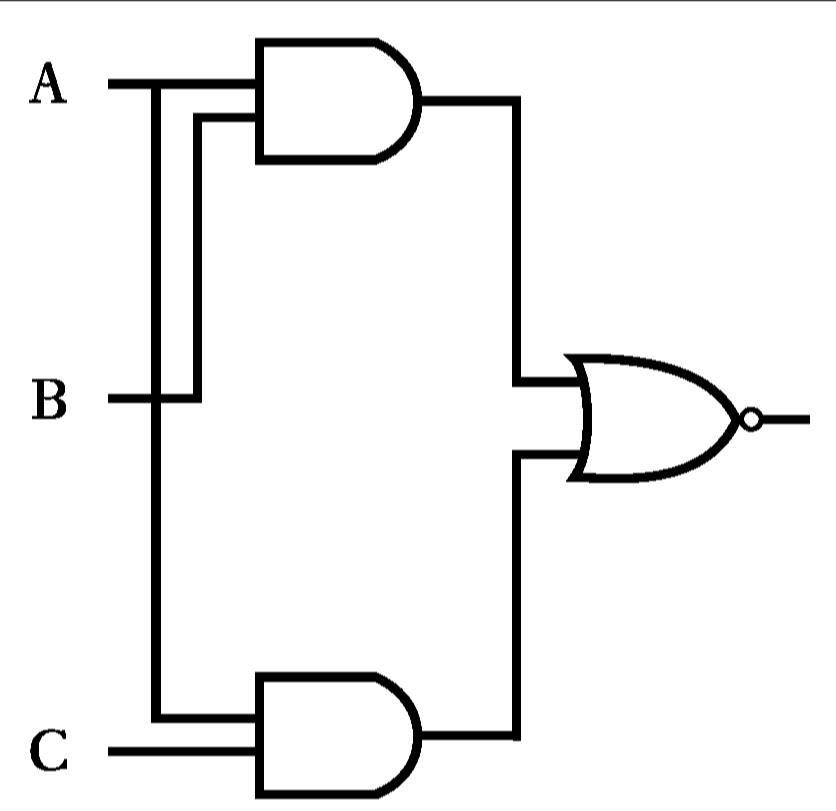and: (236, 25, 447, 181), (242, 654, 442, 809)
nor: (549, 331, 776, 506)
